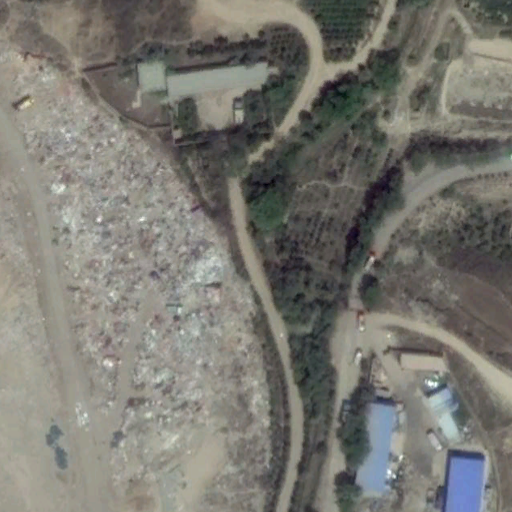msw: (21, 94, 248, 486)
